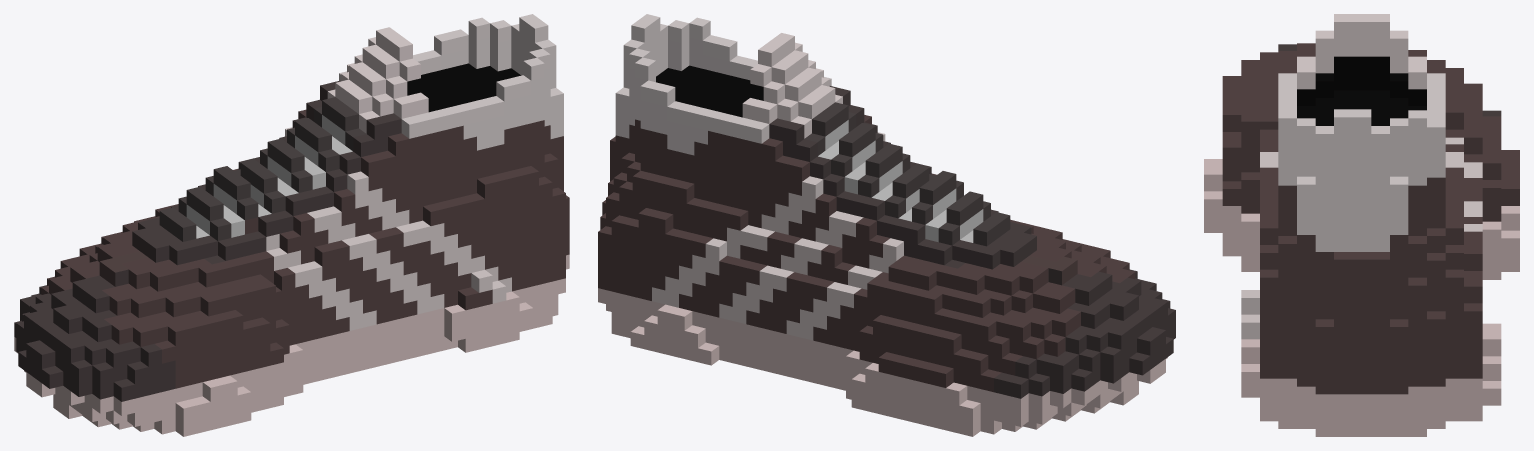
The model's file is Clean Grey.fbx.
The picture shows the model from 3 angles, left to right: view 1: azimuth 30°, elevation 25°; view 2: azimuth 150°, elevation 25°; view 3: azimuth 270°, elevation 25°; orthographic projection. The views are drawn at different scales.
Visible parts, largest first — view 1: Untitled; view 2: Untitled; view 3: Untitled.
Boxes of the visible parts, x1,y1,x2,y2 form: Untitled: (14,14,569,436); Untitled: (598,14,1175,436); Untitled: (1204,14,1519,436).
Bounding box in the file's own units: 390 × 200 × 170.
